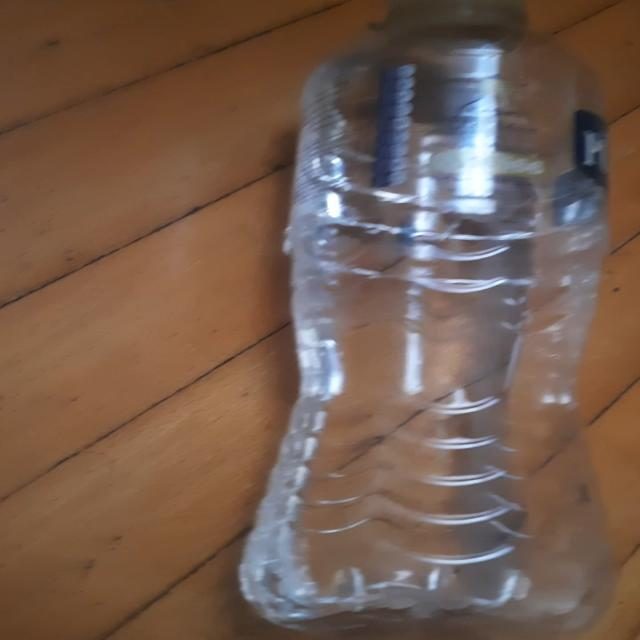Plastic: (236, 0, 619, 640)
